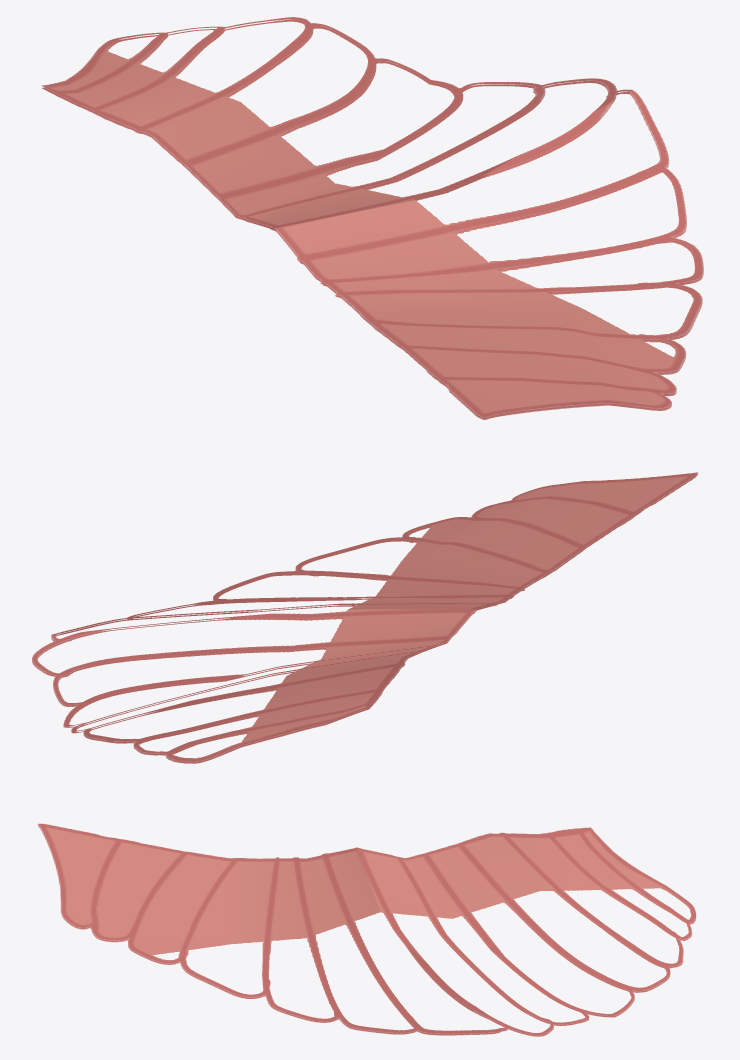
File: fin 1.fbx
The picture shows the model from 3 angles, top to bottom: view 1: azimuth 30°, elevation 25°; view 2: azimuth 150°, elevation 25°; view 3: azimuth 270°, elevation 25°; orthographic projection. The views are drawn at different scales.
Parts seen in each view (by area): view 1: fin1; view 2: fin1; view 3: fin1.
Part boxes in pixels (box(x1,y1,x2,y2)): fin1: box(41, 17, 703, 419); fin1: box(32, 472, 698, 763); fin1: box(38, 823, 696, 1036).
Bounding box in the file's own units: 13.29 × 2.74 × 22.84.
